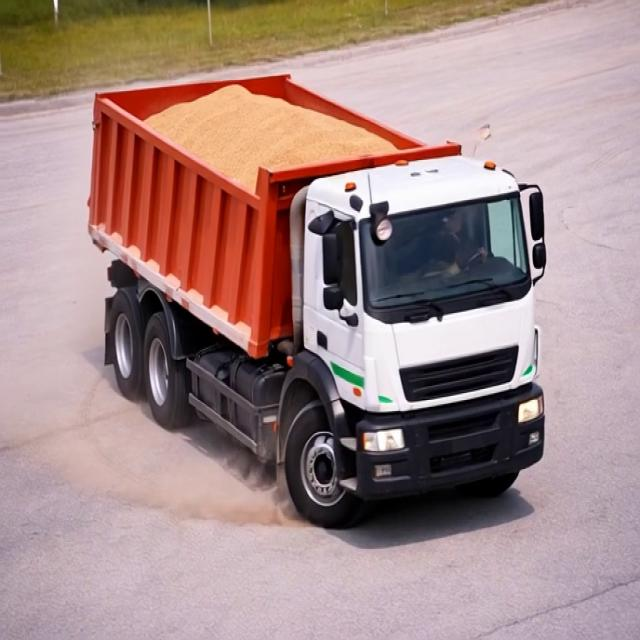trailer: (90, 75, 462, 188)
truck: (77, 52, 549, 513)
